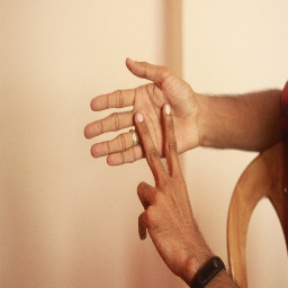N: (81, 54, 210, 225)
